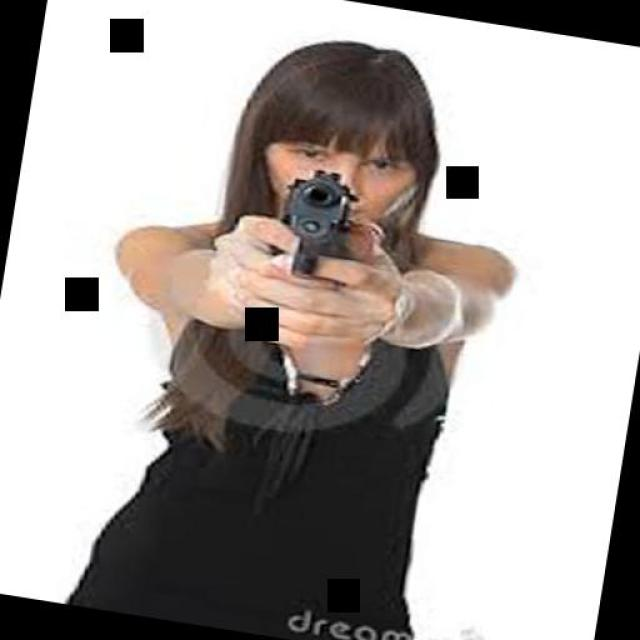gun: (266, 158, 362, 292)
